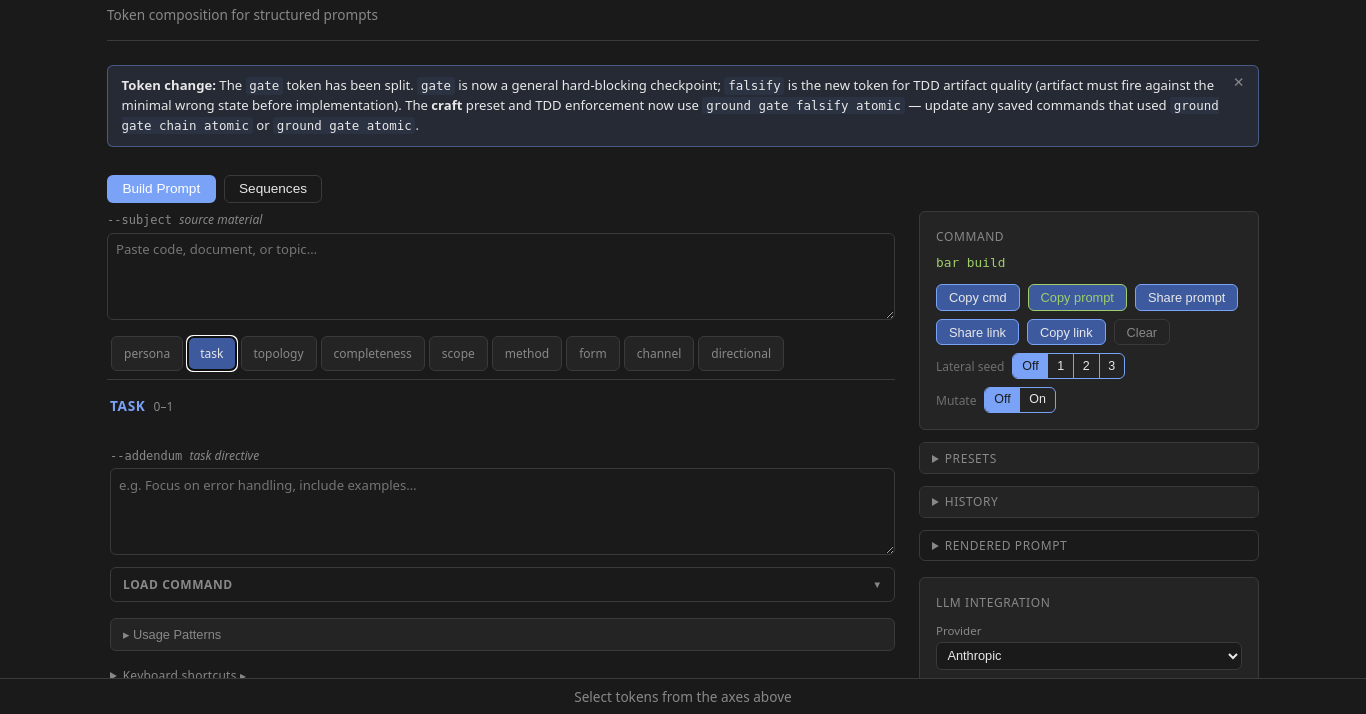
Scenario: ADR-0170: Persona chip grids › CG-1: renders chip grids for voice, audience, tone, intent — not select elements
Click the tab with class "tab" showing "persona" at (147, 353), box [111,336,183,371]
(page scrolled)
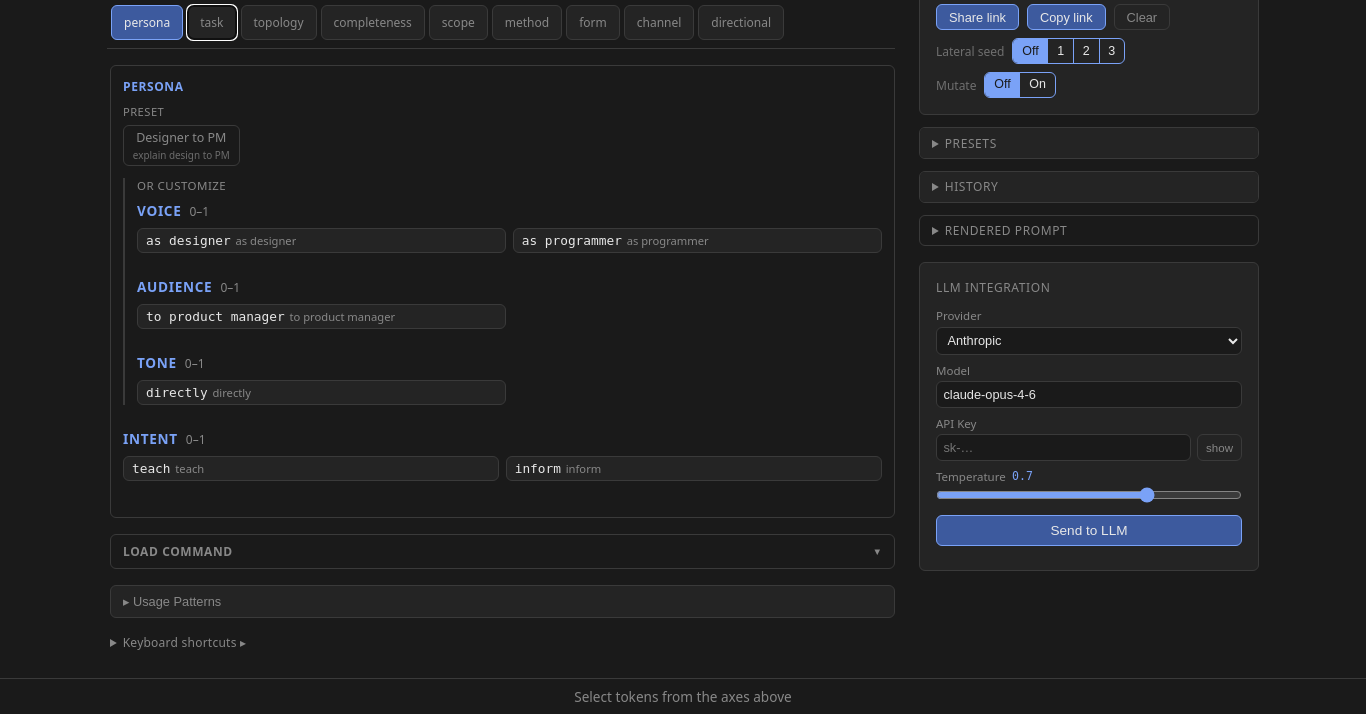
Expected: the list named "voice tokens" is shown, [137,228,882,253]
Expected: the list named "audience tokens" is shown, [137,304,506,329]
Expected: the list named "tone tokens" is shown, [137,380,506,405]
